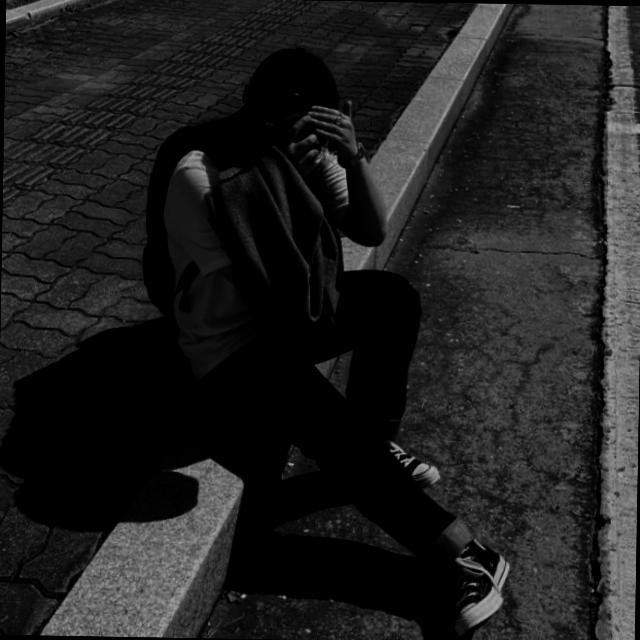denimpants: (201, 260, 478, 578)
shortsleeve: (160, 140, 354, 380)
